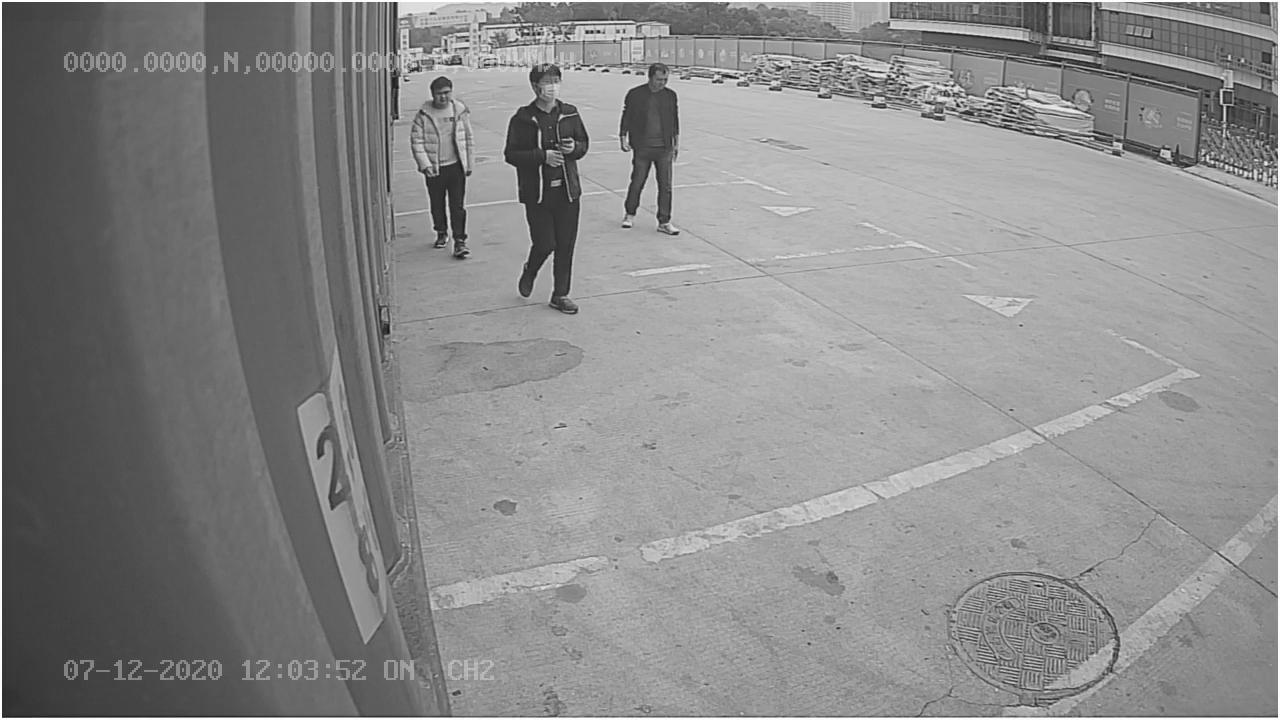person: (505, 61, 588, 315)
